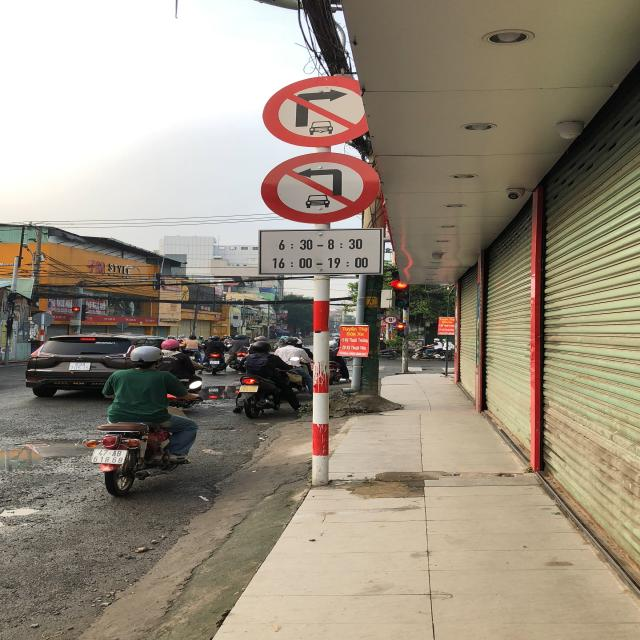Bien bao cam xe o to re phai: (254, 74, 378, 145)
Bien bao cam xe o to re trai: (254, 149, 388, 223)
